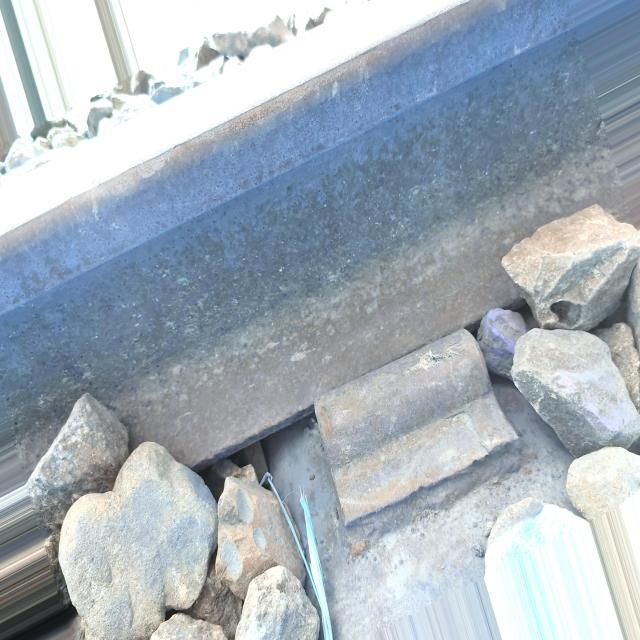Missing Fastener: (315, 329, 518, 524)
